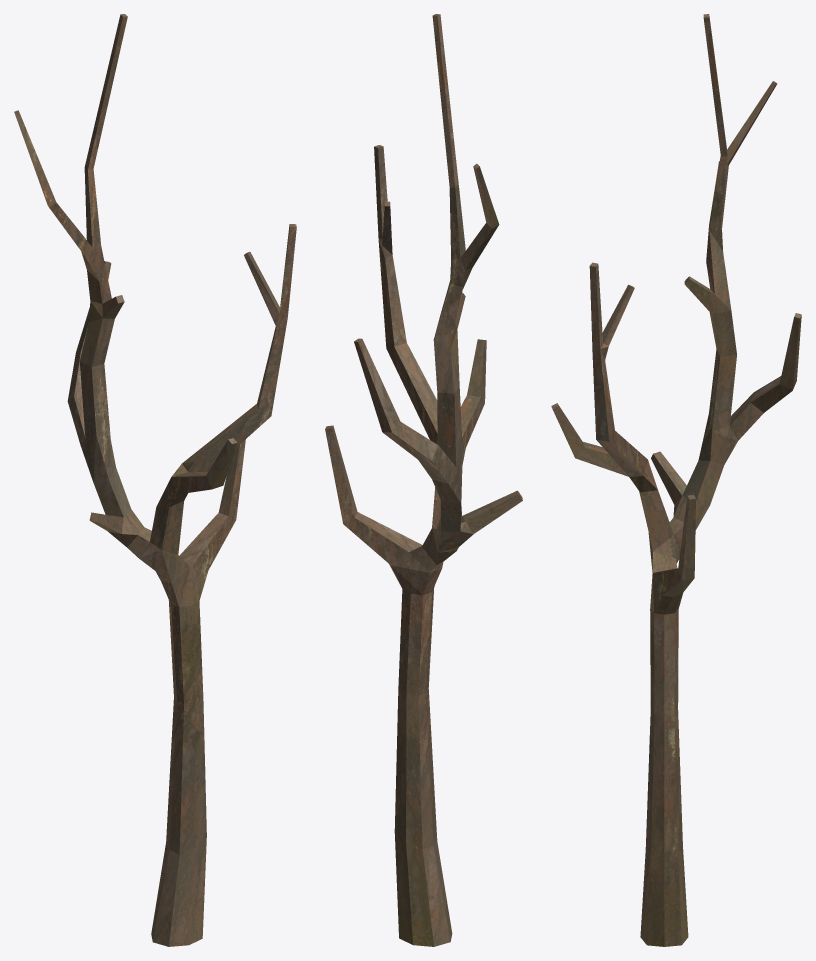
File: 장애물_나무4.fbx
The picture shows the model from 3 angles, left to right: view 1: azimuth 30°, elevation 25°; view 2: azimuth 150°, elevation 25°; view 3: azimuth 270°, elevation 25°; orthographic projection. The views are drawn at different scales.
Parts seen in each view (by area): view 1: tree4; view 2: tree4; view 3: tree4.
Part boxes in pixels (x1,y1,x2,y2): tree4: (14,14,296,946); tree4: (325,14,522,946); tree4: (551,14,801,946).
Bounding box in the file's own units: 239 × 1088 × 273.
